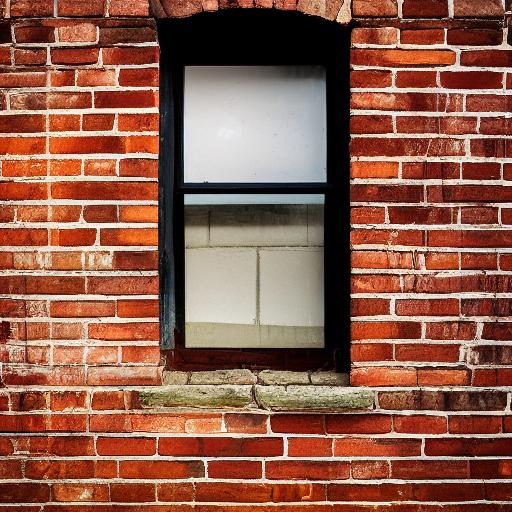Window: (141, 1, 378, 416)
